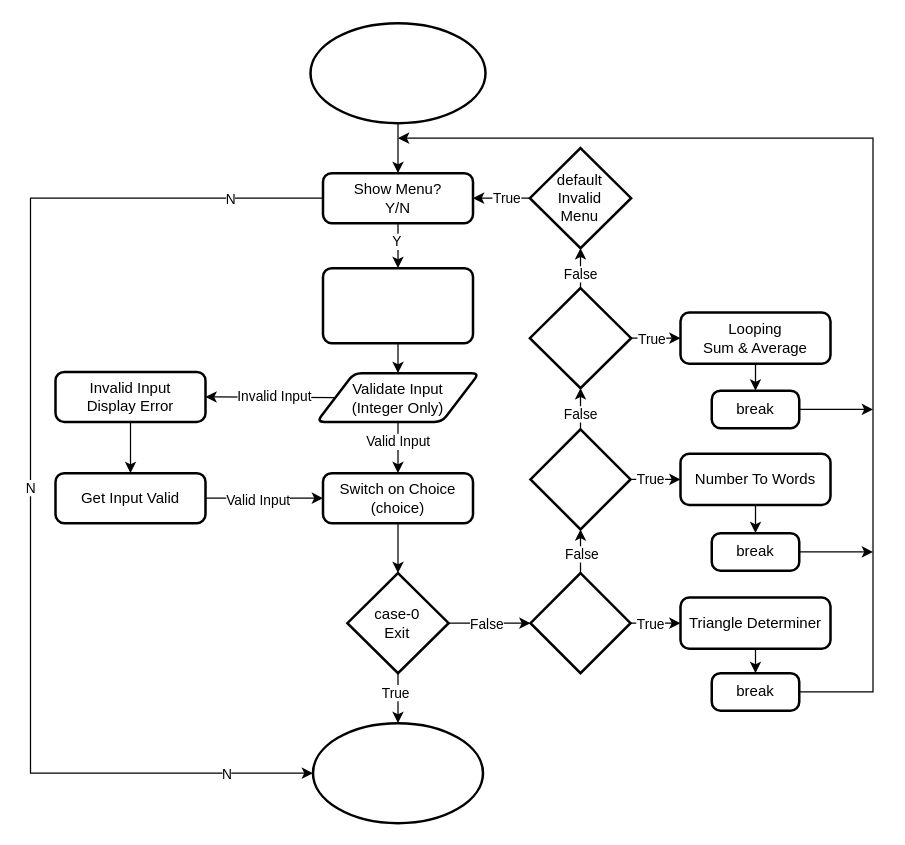
The diagram is 905 pixels wide and 845 high, and some of its shapes have lost their labels. The centre of each missing label's shape, as x and y in pixels:
"case-1 Triangle" goes at [580,622].
"case-2 Number" goes at [580,479].
"case-3 LoopSum Avg" goes at [580,337].
"Display menu & Get Input from displayMenu()" goes at [397,305].
"END" goes at [397,772].
"START" goes at [397,72].
